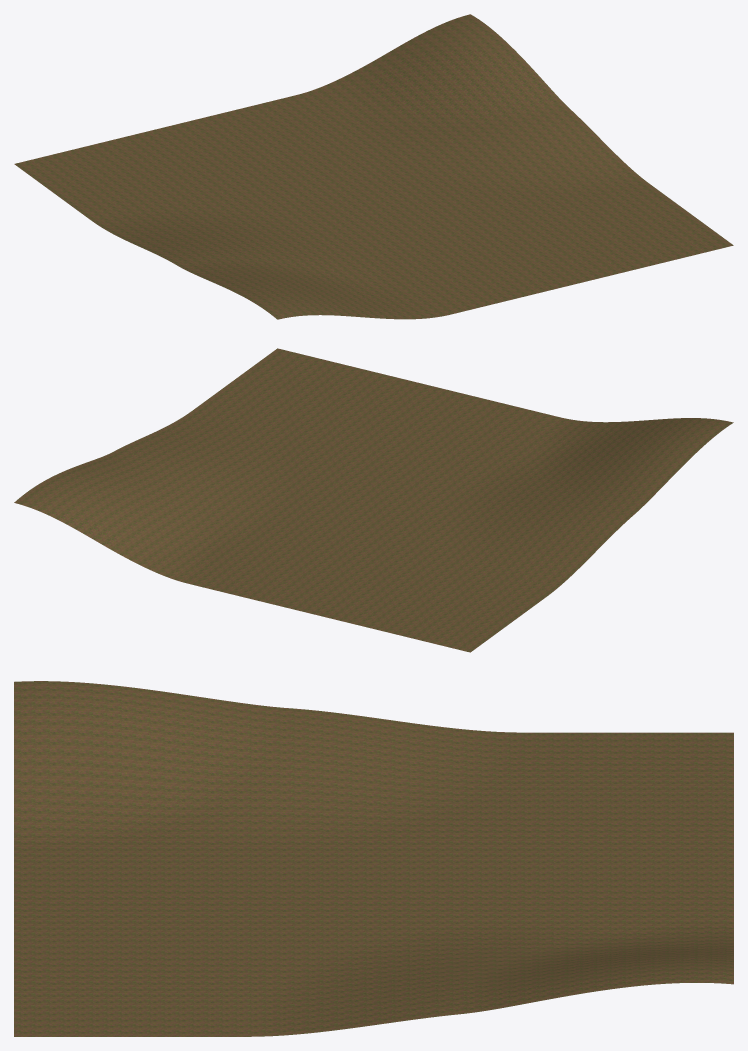
File: terrain.gltf
3 views of the same model, one above another, from view 1: azimuth 30°, elevation 25°; view 2: azimuth 150°, elevation 25°; view 3: azimuth 270°, elevation 25° (orthographic). The views are drawn at different scales.
Visible parts, largest first — view 1: Plane; view 2: Plane; view 3: Plane.
Part boxes in pixels (<box>): Plane: <box>14,14,733,319</box>; Plane: <box>14,348,733,652</box>; Plane: <box>14,681,733,1036</box>.
Bounding box in the file's own units: 200 × 16.56 × 200.
